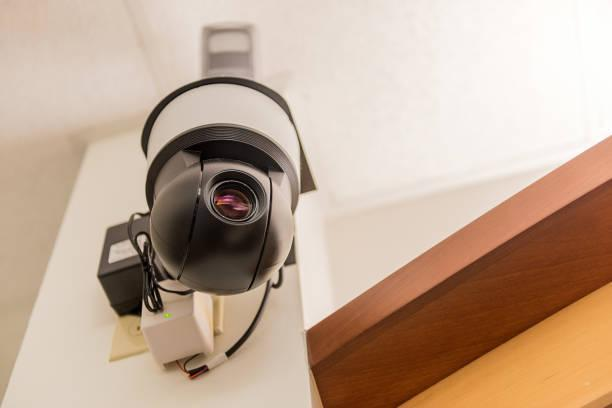camera: (127, 81, 345, 314)
